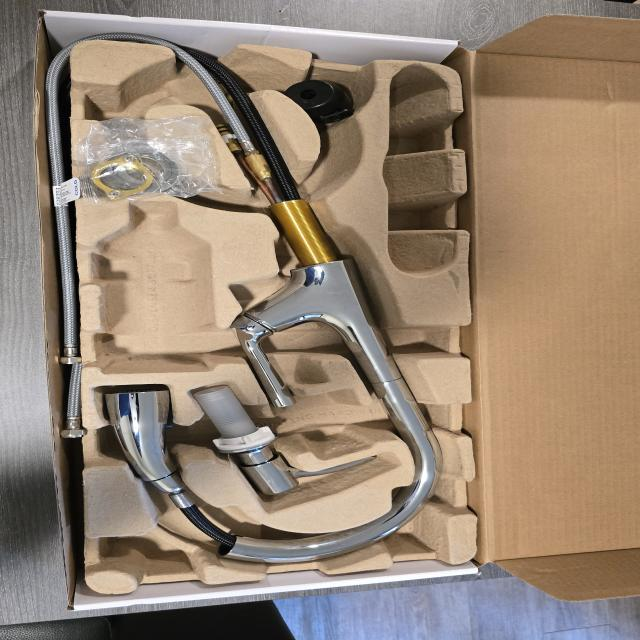1: (103, 38, 445, 565)
2: (191, 384, 379, 497)
3m: (99, 202, 211, 372)
4m: (382, 62, 457, 277)
5: (289, 80, 356, 122)
6: (79, 114, 225, 202)
7m: (87, 70, 174, 135)
